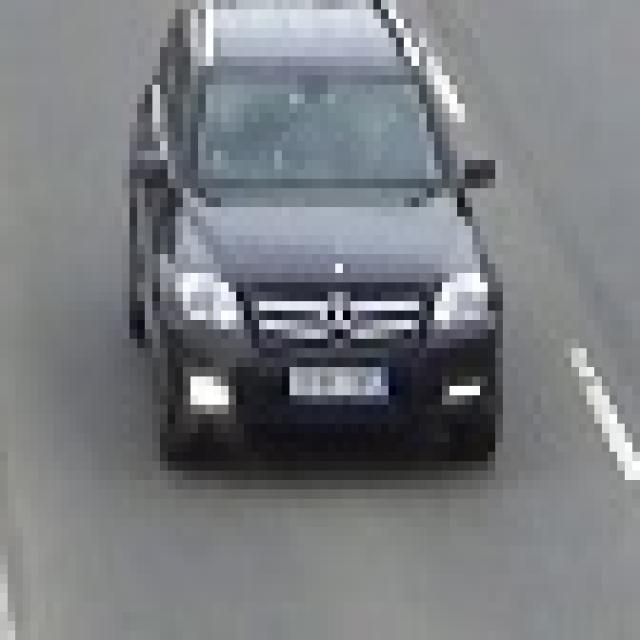SUV: (132, 1, 487, 447)
